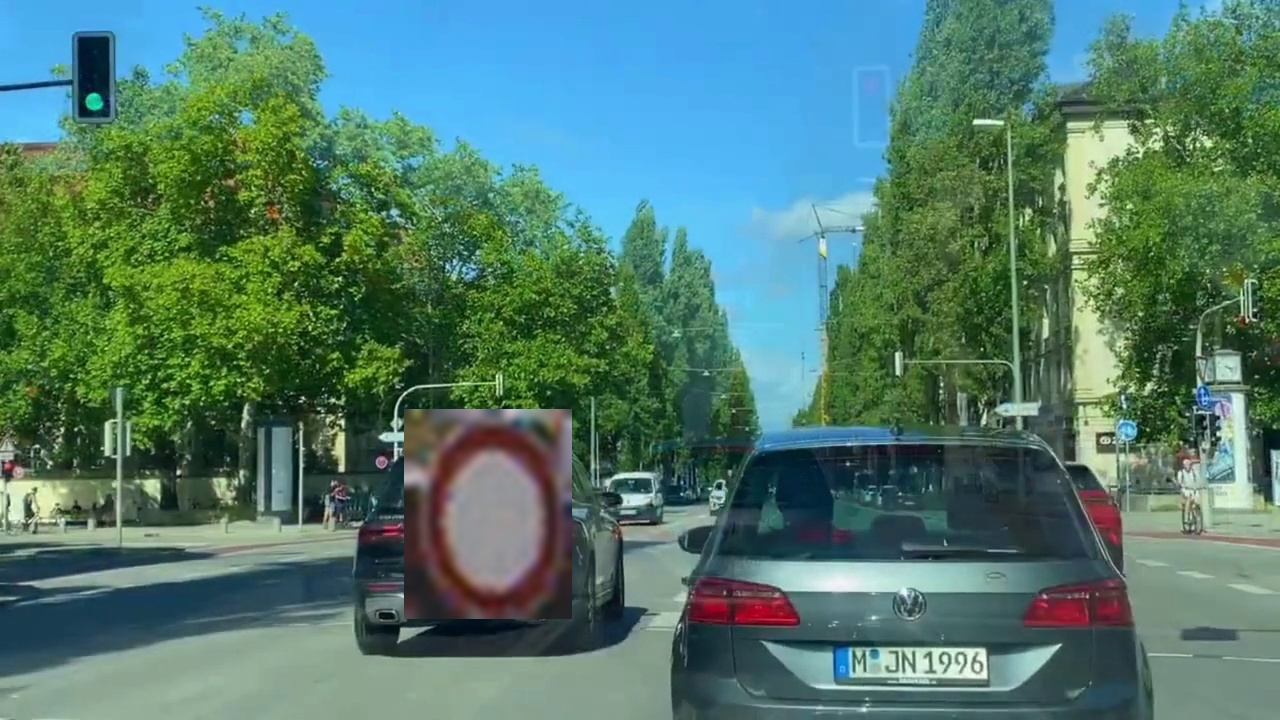No vehicles: (404, 409, 572, 619)
